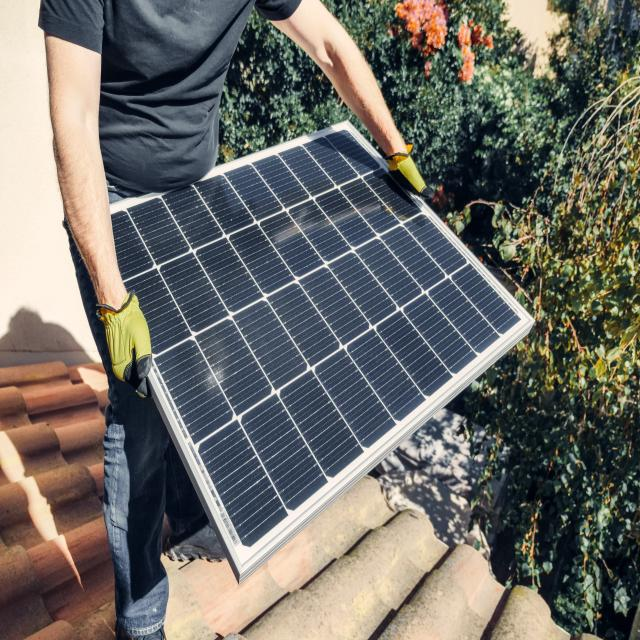clean-solar-panel: (112, 130, 520, 547)
